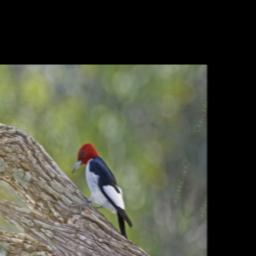Woodpecker: (58, 135, 152, 244)
